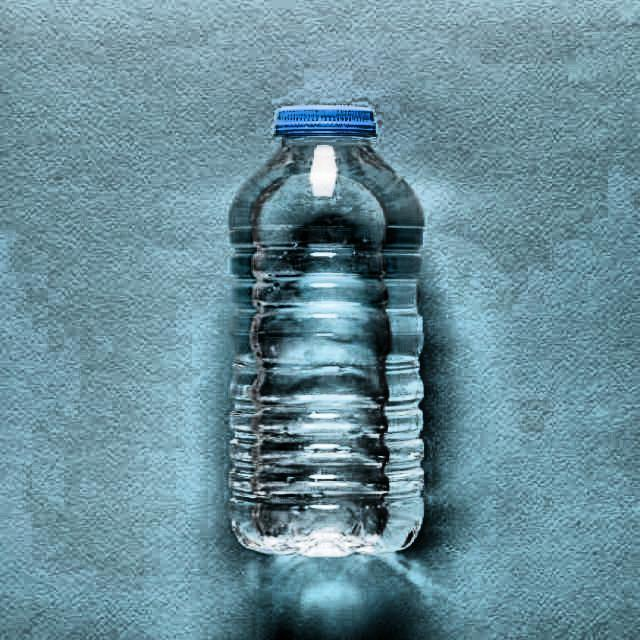plastic: (227, 108, 426, 561)
